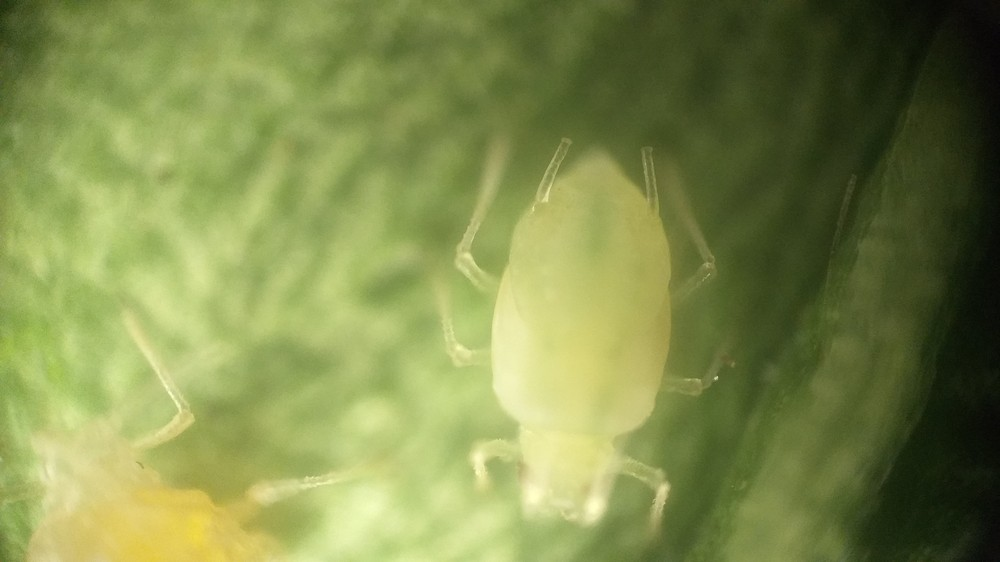Pulgon: (403, 118, 776, 551)
